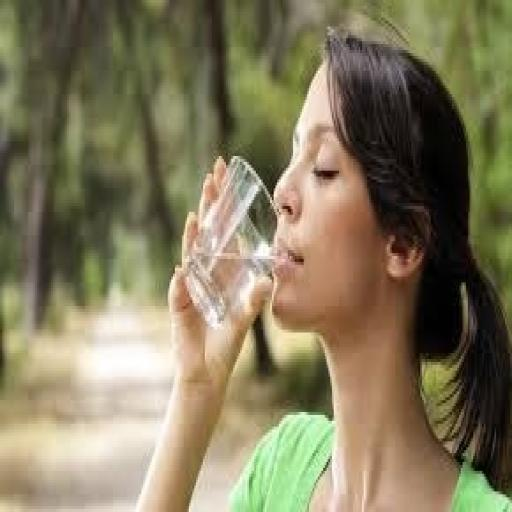drinking: (182, 153, 279, 330)
